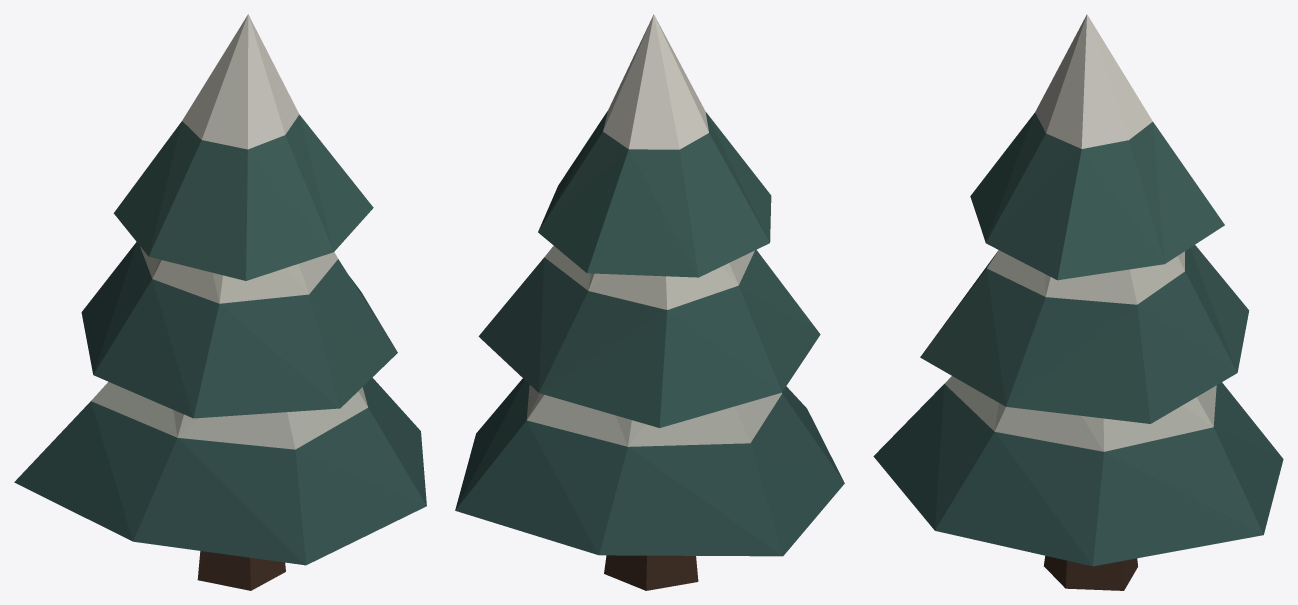
The model's file is prop_tree_pine_snow.glb.
3 renders of one model, left to right at view 1: azimuth 30°, elevation 25°; view 2: azimuth 150°, elevation 25°; view 3: azimuth 270°, elevation 25°, orthographic.
Visible parts, largest first — view 1: prop_tree_pine_snow; view 2: prop_tree_pine_snow; view 3: prop_tree_pine_snow.
Part boxes in pixels (x1,y1,x2,y2): prop_tree_pine_snow: [14, 14, 426, 590]; prop_tree_pine_snow: [455, 14, 844, 590]; prop_tree_pine_snow: [873, 14, 1283, 590].
Size of the model in its own units: 0.7128 by 1.06 by 0.7019.
